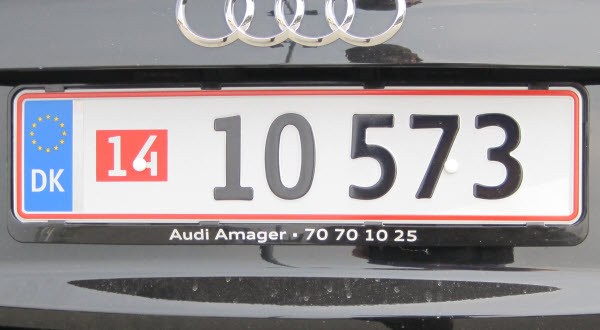license_plate: (12, 88, 583, 226)
